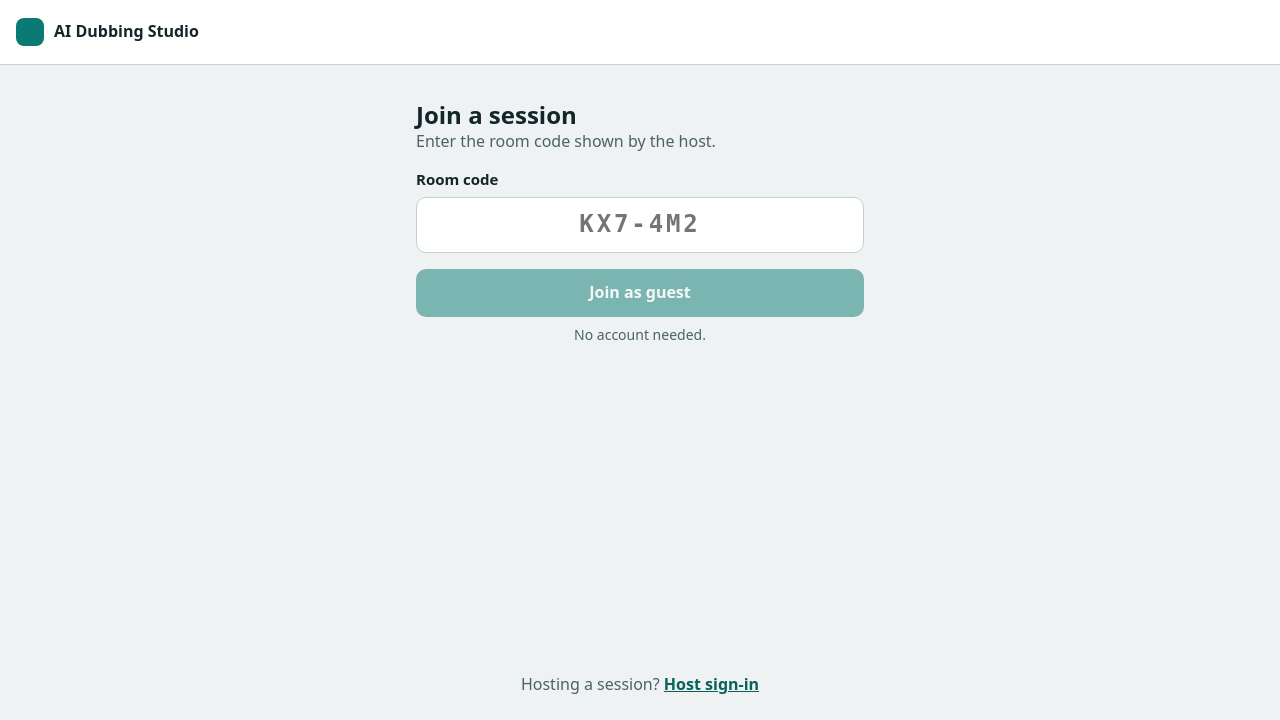
JoinPage › formats the code as you type and keeps Join disabled until it is complete
The width and height of the screenshot is (1280, 720).
Type "kx74" into the field labelled "Room code".
click(640, 225); type("kx74")  # box [416,197,864,253]
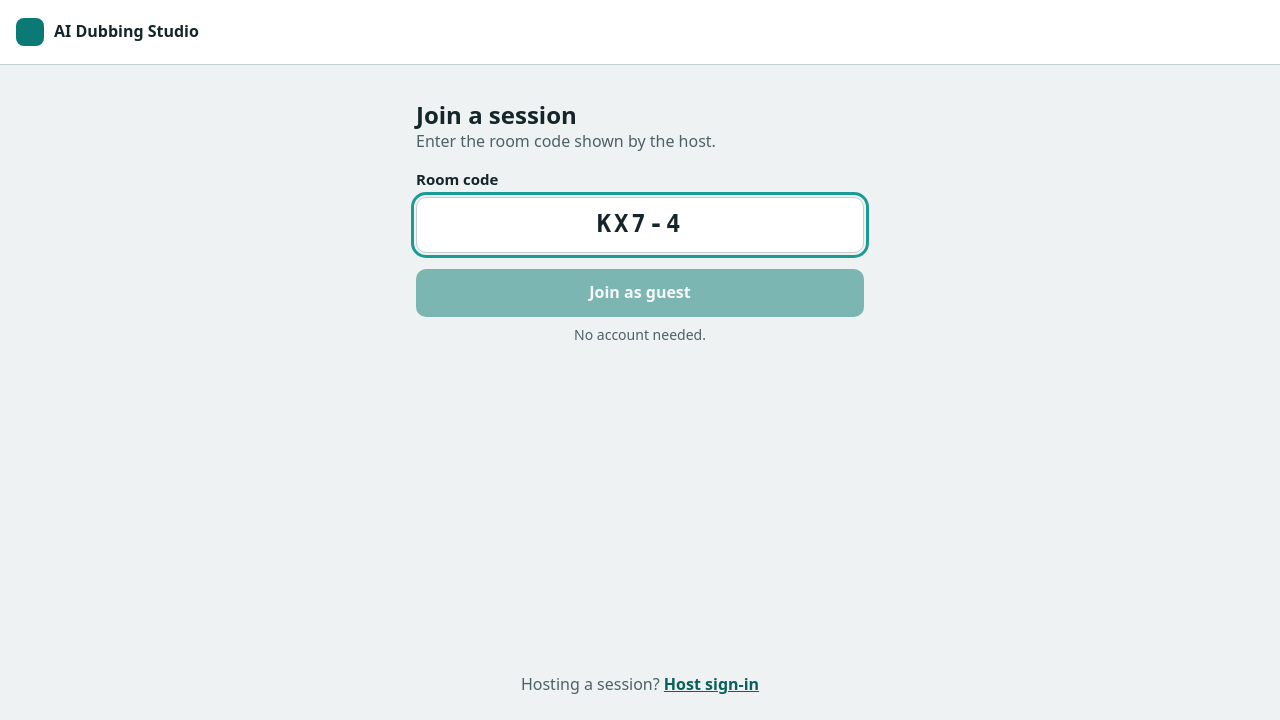
Expected: the button "Join as guest" is disabled, [416,269,864,317]
Now the field labelled "Room code" holds "KX7-4"
Type "m2" into the field labelled "Room code".
click(640, 225); type("m2")  # box [416,197,864,253]
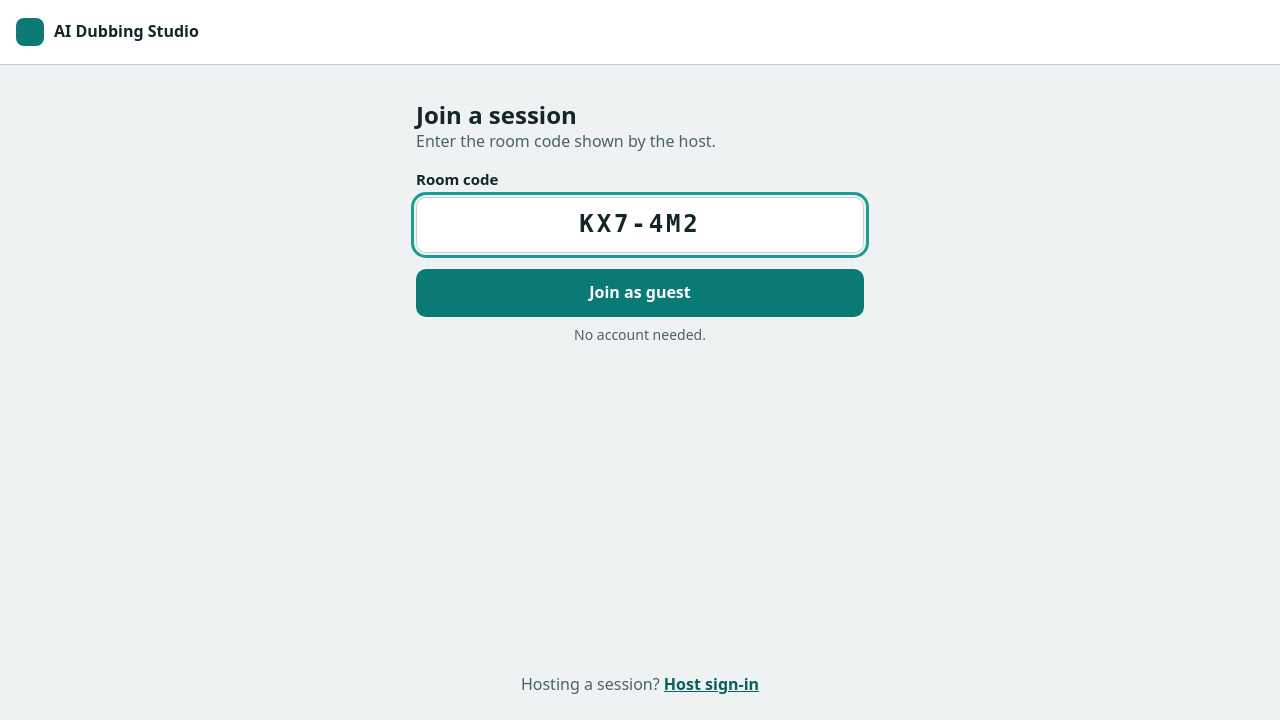
Now the field labelled "Room code" holds "KX7-4M2", box [416,197,864,253]
Now the button "Join as guest" is enabled, box [416,269,864,317]
